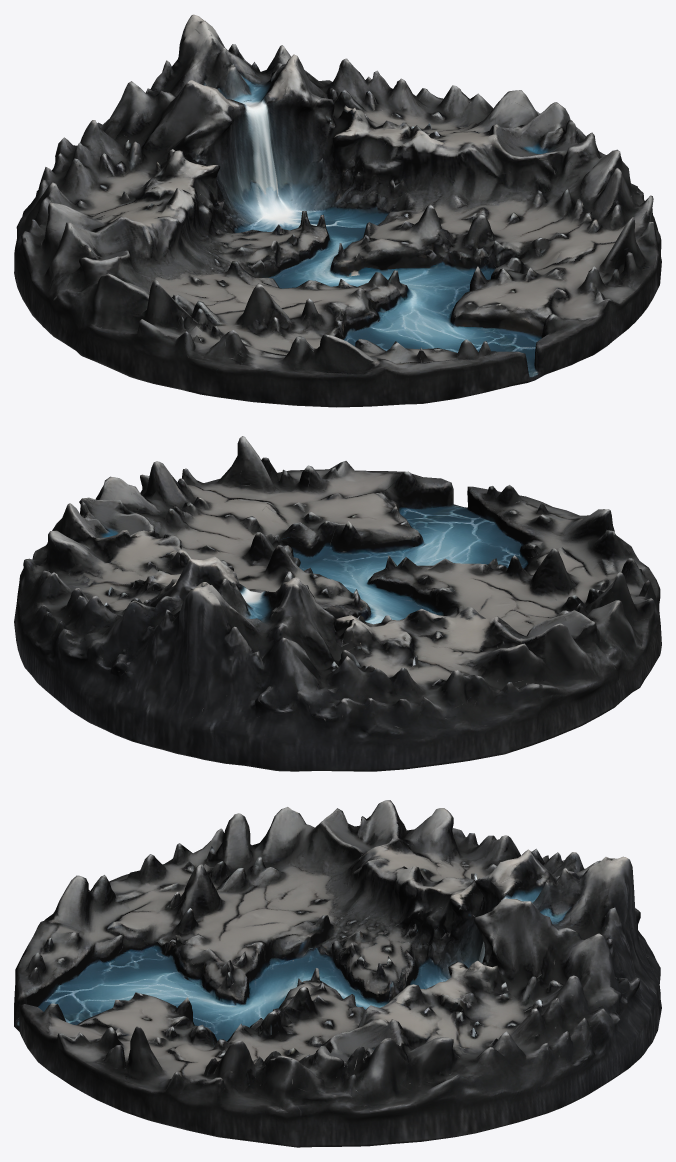
File: Meshy_AI_Low_poly_thing_0219021908_texture.glb
3 views of the same model, one above another, from view 1: azimuth 30°, elevation 25°; view 2: azimuth 150°, elevation 25°; view 3: azimuth 270°, elevation 25° (orthographic).
Size of the model in its own units: 2 by 0.5216 by 1.99.
1 material, 1 textured.
